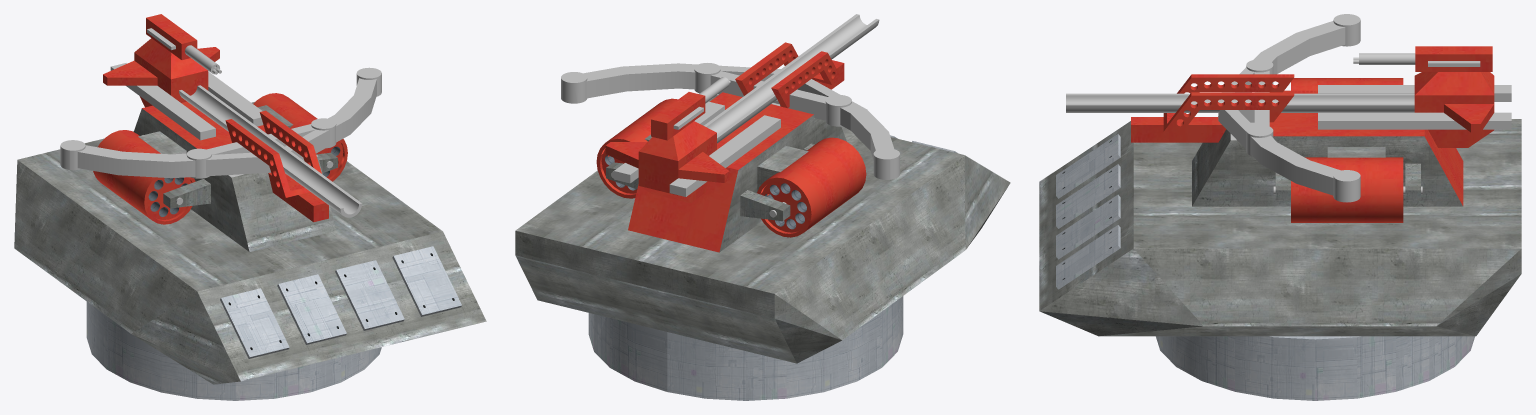
Rendered from 手雷发射器[武器]贴图版.fbx.
3 views of the same model, side by side, from view 1: azimuth 30°, elevation 25°; view 2: azimuth 150°, elevation 25°; view 3: azimuth 270°, elevation 25° (orthographic). The views are drawn at different scales.
Parts seen in each view (by area): view 1: Group8, Mesh19, Group9, Group12, Group1, Group10, Group7, Group11, Group3, Group5, Group6, Group2 (+2 smaller); view 2: Group8, Group9, Mesh19, Group12, Group7, Group1, Group10, Group11, Group3, Group5, Group6, Group17 (+1 smaller); view 3: Group8, Group9, Mesh19, Group12, Group6, Group10, Group1, Group11, Group2, Group5, Group4, Group3 (+2 smaller).
Part boxes in pixels (bbox=[...]): Group8: bbox=[14, 102, 486, 384]; Mesh19: bbox=[133, 101, 336, 251]; Group9: bbox=[86, 302, 381, 400]; Group12: bbox=[60, 67, 381, 178]; Group1: bbox=[103, 38, 219, 107]; Group10: bbox=[179, 85, 361, 217]; Group7: bbox=[93, 130, 195, 224]; Group11: bbox=[225, 110, 321, 197]; Group3: bbox=[110, 63, 215, 140]; Group5: bbox=[146, 14, 221, 74]; Group6: bbox=[253, 93, 347, 181]; Group2: bbox=[208, 71, 263, 126]; Group8: bbox=[515, 94, 1010, 363]; Group9: bbox=[588, 296, 903, 400]; Mesh19: bbox=[628, 92, 846, 252]; Group12: bbox=[561, 63, 899, 179]; Group7: bbox=[757, 137, 866, 237]; Group1: bbox=[605, 121, 729, 203]; Group10: bbox=[704, 14, 879, 143]; Group11: bbox=[735, 42, 841, 108]; Group3: bbox=[669, 115, 780, 196]; Group5: bbox=[651, 77, 730, 140]; Group6: bbox=[596, 98, 677, 198]; Group17: bbox=[740, 190, 790, 221]; Group8: bbox=[1039, 119, 1521, 336]; Group9: bbox=[1156, 336, 1474, 400]; Mesh19: bbox=[1192, 90, 1463, 206]; Group12: bbox=[1218, 14, 1360, 202]; Group6: bbox=[1291, 157, 1403, 222]; Group10: bbox=[1066, 93, 1414, 112]; Group1: bbox=[1414, 72, 1494, 147]; Group11: bbox=[1163, 74, 1294, 131]; Group2: bbox=[1318, 112, 1511, 129]; Group5: bbox=[1353, 46, 1492, 71]; Group4: bbox=[1131, 117, 1226, 142]; Group3: bbox=[1318, 85, 1511, 101].
Size of the model in its own units: 2.05 by 1.61 by 2.49.
